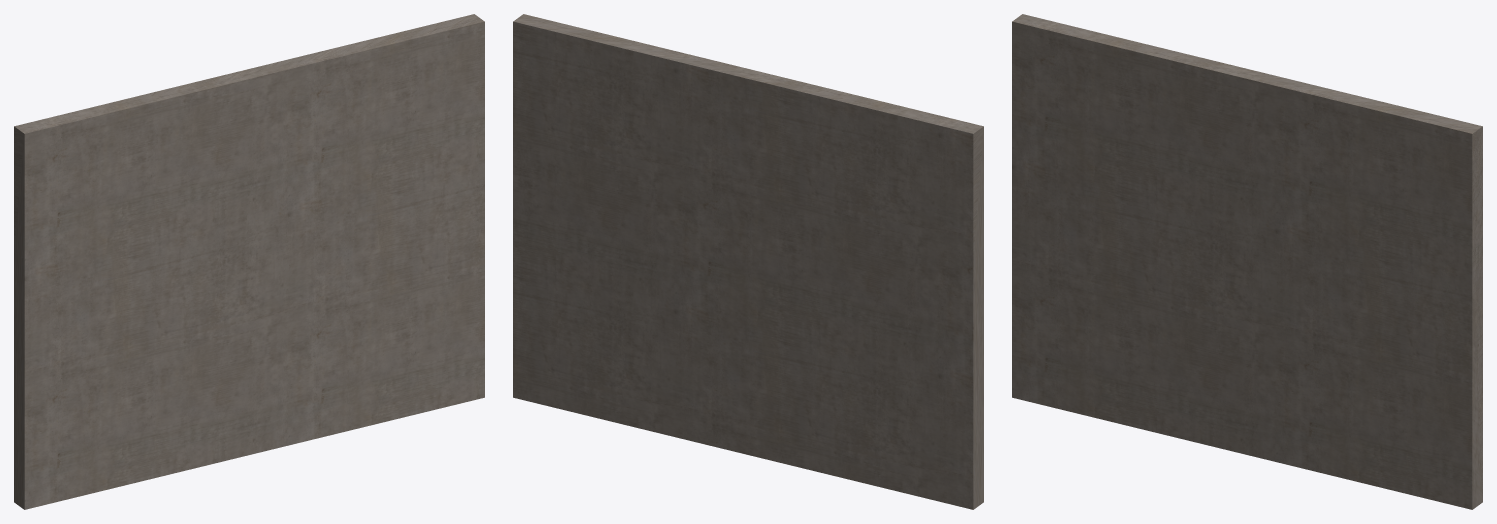
File: wall163.mtl.obj
The picture shows the model from 3 angles, left to right: view 1: azimuth 30°, elevation 25°; view 2: azimuth 150°, elevation 25°; view 3: azimuth 330°, elevation 25°; orthographic projection.
Parts seen in each view (by area): view 1: wall.0163; view 2: wall.0163; view 3: wall.0163.
Boxes of the visible parts, x1,y1,x2,y2 form: wall.0163: (14, 14, 484, 509); wall.0163: (513, 14, 983, 509); wall.0163: (1012, 14, 1482, 509).
Bounding box in the file's own units: 1.28 × 1 × 0.05.
